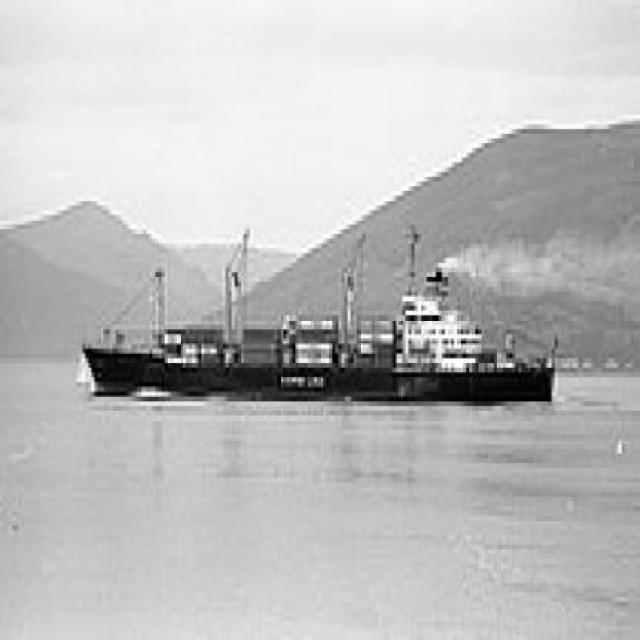container: (74, 216, 565, 422)
